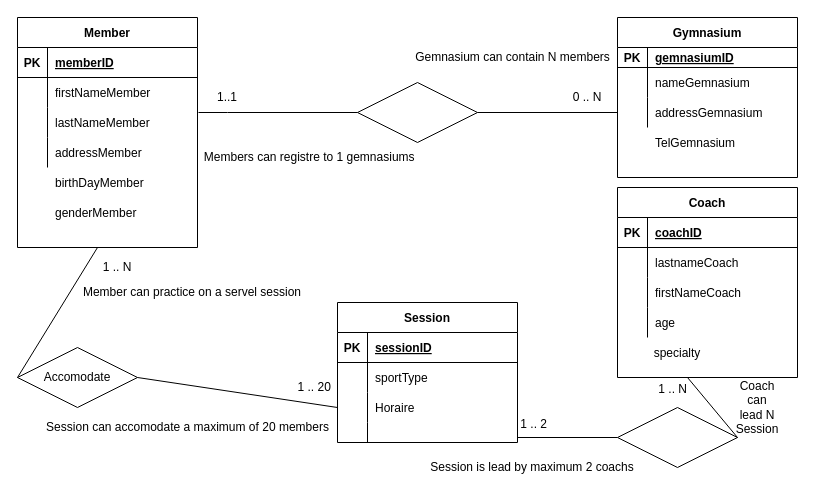
Some shapes in this 815 by 495 pixel diagram are drawn without their labels. The centre of each missing label's shape, as x and y in pixels:
Lead: [677,437]
Register: [417,112]
